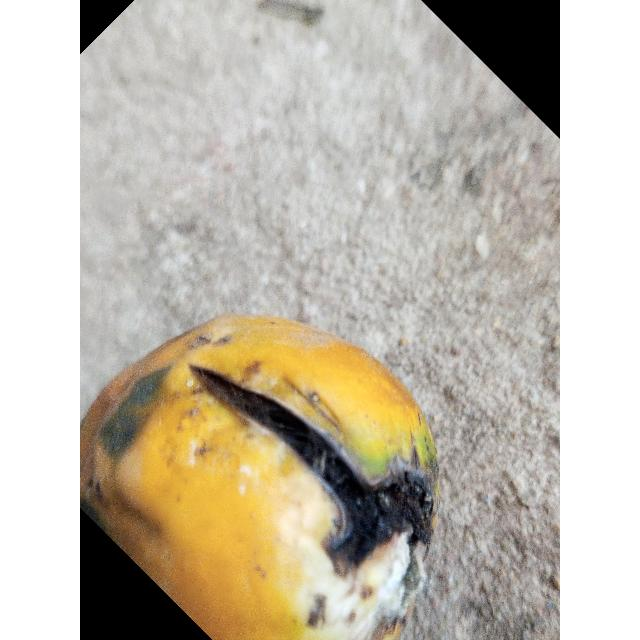damaged: (80, 315, 439, 640)
